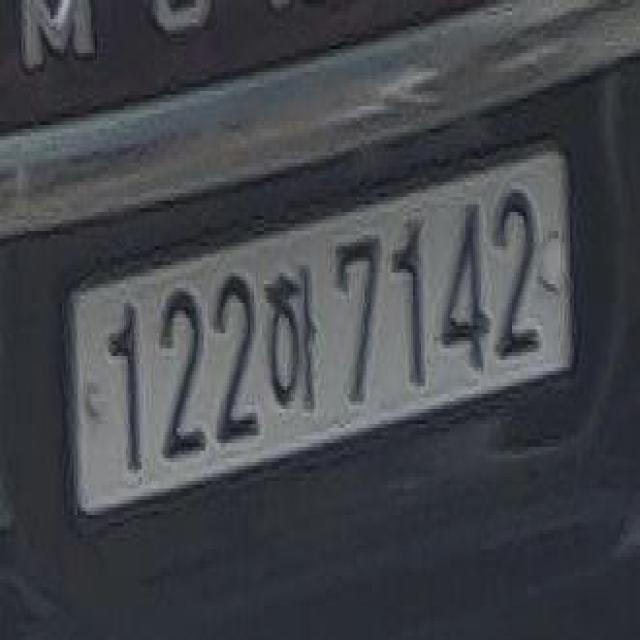illegal_plate: (64, 136, 575, 532)
